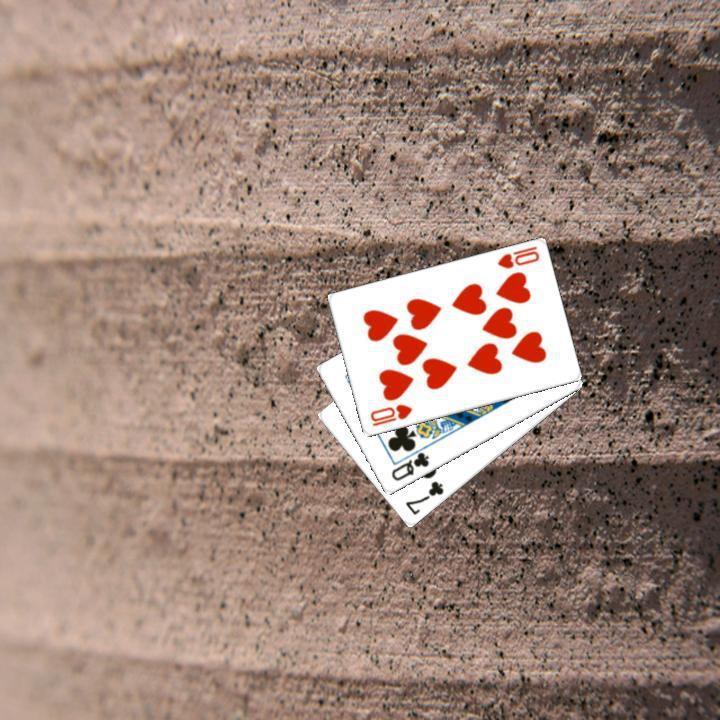10: (366, 400, 414, 429), (493, 242, 541, 271)
7: (401, 477, 446, 518)
Q: (387, 448, 431, 483)
